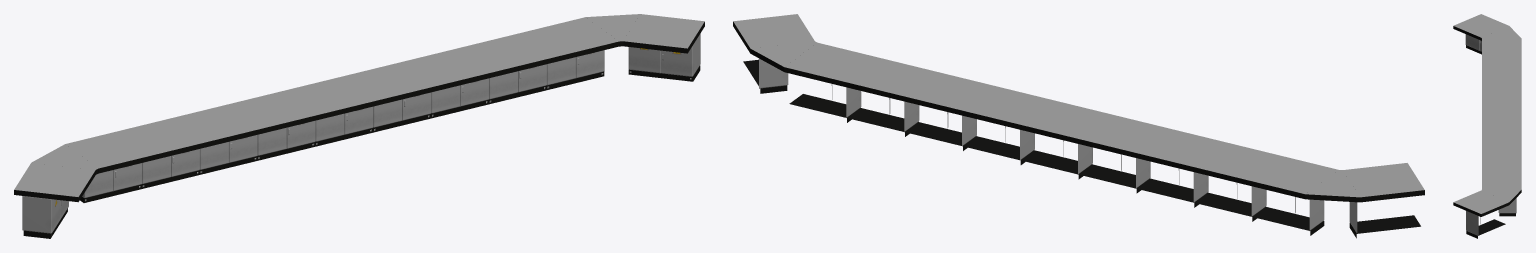
The model's file is Table.glb.
The picture shows the model from 3 angles, left to right: view 1: azimuth 30°, elevation 25°; view 2: azimuth 150°, elevation 25°; view 3: azimuth 270°, elevation 25°; orthographic projection. The views are drawn at different scales.
Parts seen in each view (by area): view 1: Rectangle001, ShkafUnderTable009 (×3), Rectangle002, Line001, ShkafUnderTable003, ShkafUnderTable005, ShkafUnderTable004, ShkafUnderTable001, ShkafUnderTable002, ShkafUnderTable007, ShkafUnderTable008, ShkafUnderTable006; view 2: Rectangle001, Rectangle002, ShkafUnderTable009 (×3), Line001, ShkafUnderTable007, ShkafUnderTable002, ShkafUnderTable001, ShkafUnderTable008, ShkafUnderTable006, ShkafUnderTable004, ShkafUnderTable005, ShkafUnderTable003; view 3: Rectangle001, Rectangle002, ShkafUnderTable009 (×2), Line001, ShkafUnderTable008.
Boxes of the visible parts, x1,y1,x2,y2 form: Rectangle001: (65,17,618,173); ShkafUnderTable009 (×3): (22,33,700,238); Rectangle002: (14,14,704,202); Line001: (32,14,639,174); ShkafUnderTable003: (257,120,315,160); ShkafUnderTable005: (373,92,431,132); ShkafUnderTable004: (315,106,373,146); ShkafUnderTable001: (141,149,199,188); ShkafUnderTable002: (199,135,257,174); ShkafUnderTable007: (488,64,546,104); ShkafUnderTable008: (546,50,604,89); ShkafUnderTable006: (431,78,488,118); Rectangle001: (784,42,1338,198); Rectangle002: (733,14,1424,202); ShkafUnderTable009 (×3): (743,58,1420,238); Line001: (750,41,1360,202); ShkafUnderTable007: (847,98,919,136); ShkafUnderTable002: (1137,168,1208,207); ShkafUnderTable001: (1195,183,1266,221); ShkafUnderTable008: (789,84,861,122); ShkafUnderTable006: (905,112,976,150); ShkafUnderTable004: (1021,140,1092,179); ShkafUnderTable005: (963,126,1034,164); ShkafUnderTable003: (1079,154,1150,193); Rectangle001: (1482,38,1521,189); Rectangle002: (1453,14,1509,216); ShkafUnderTable009 (×2): (1465,34,1505,238); Line001: (1481,26,1521,204); ShkafUnderTable008: (1498,198,1516,216).
Bounding box in the file's own units: 14.34 × 0.9003 × 2.08.
Materials: 1 (1 with a texture image).
